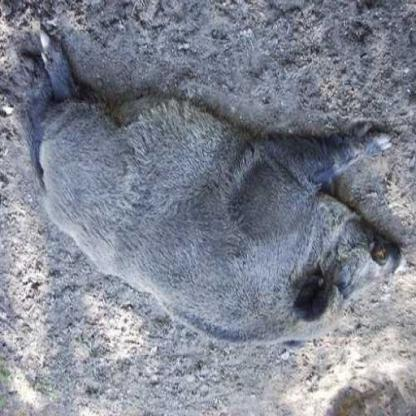boar: (12, 2, 412, 389)
